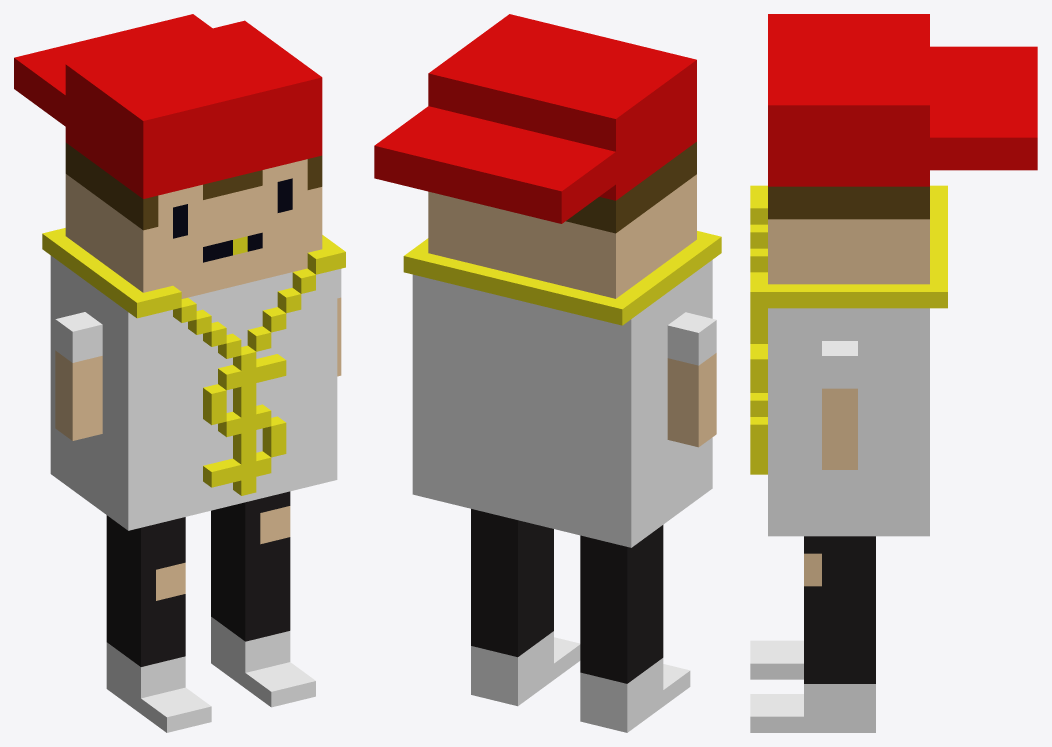
File: Player7.obj
3 renders of one model, left to right at view 1: azimuth 30°, elevation 25°; view 2: azimuth 150°, elevation 25°; view 3: azimuth 270°, elevation 25°, orthographic. The views are drawn at different scales.
Parts seen in each view (by area): view 1: Player7; view 2: Player7; view 3: Player7.
Boxes of the visible parts, bbox=[...] form: Player7: bbox=[14, 14, 345, 732]; Player7: bbox=[374, 14, 721, 732]; Player7: bbox=[750, 14, 1037, 732].
Size of the model in its own units: 18 by 39 by 16.
